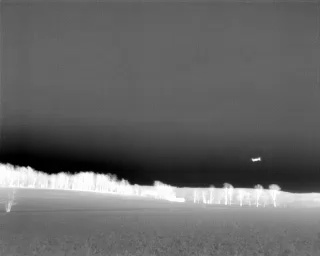DRONE: (248, 152, 266, 167)
